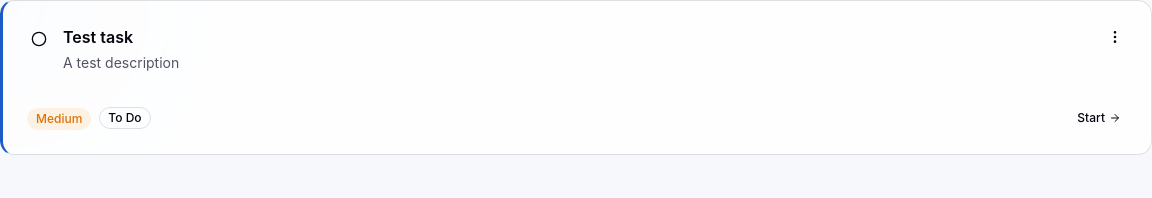
Test: TaskCard › opens dropdown menu with valid transitions for todo task
This screenshot has width=1152, height=198.
Click the button named "Task actions". click: (1115,37)
box: x1=1103 y1=25 x2=1127 y2=49
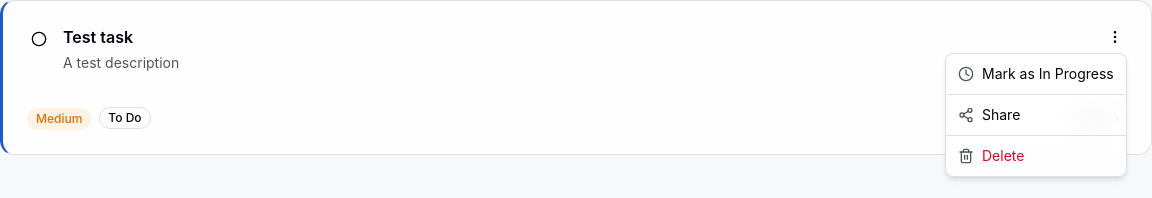
Check: the menu item "Mark as In Progress" is shown, box x1=958 y1=65 x2=1114 y2=82
Check: the menu item "Share" is shown, box x1=958 y1=106 x2=1020 y2=123
Check: the menu item "Delete" is shown, box x1=958 y1=147 x2=1024 y2=164
